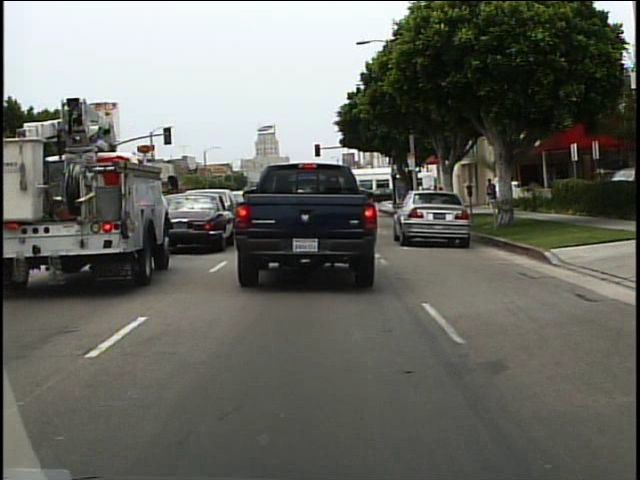person: (485, 177, 496, 208)
